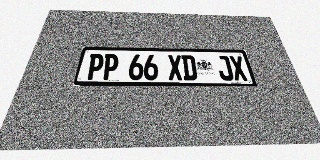6: (128, 54, 144, 80), (144, 54, 158, 80)
D: (181, 55, 198, 80)
J: (215, 56, 234, 81)
P: (85, 54, 105, 80), (101, 54, 119, 80)
X: (229, 56, 248, 81), (167, 55, 183, 80)
